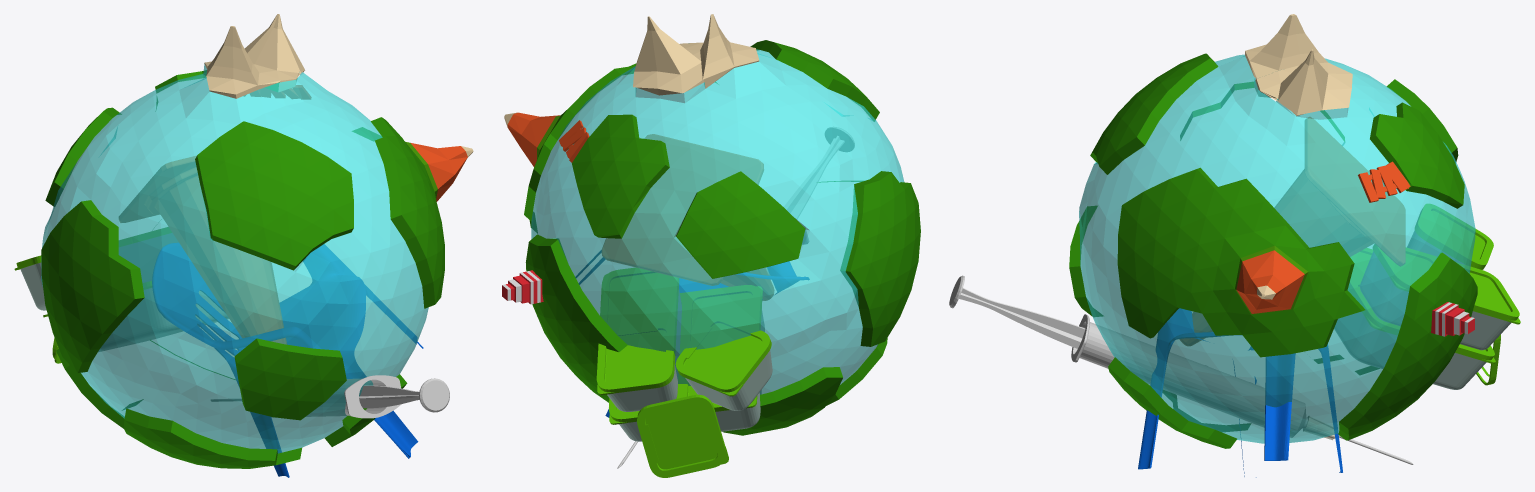
The model's file is world_05.glb.
The picture shows the model from 3 angles, left to right: view 1: azimuth 30°, elevation 25°; view 2: azimuth 150°, elevation 25°; view 3: azimuth 270°, elevation 25°; orthographic projection. The views are drawn at different scales.
Parts seen in each view (by area): view 1: World, 03_Chair, 04_Cone, 05_Boxturm, 01_Syringe; view 2: World, 05_Boxturm, 04_Cone, 01_Syringe, 03_Chair; view 3: World, 05_Boxturm, 04_Cone, 01_Syringe, 03_Chair.
Boxes of the visible parts, x1,y1,x2,y2 form: World: (41, 14, 473, 468); 03_Chair: (152, 243, 423, 477); 04_Cone: (119, 156, 286, 344); 05_Boxturm: (14, 227, 228, 363); 01_Syringe: (211, 375, 449, 418); World: (502, 14, 920, 435); 05_Boxturm: (596, 268, 772, 477); 04_Cone: (602, 134, 774, 300); 01_Syringe: (617, 127, 854, 468); 03_Chair: (537, 250, 809, 417); World: (1069, 14, 1477, 448); 05_Boxturm: (1334, 204, 1520, 389); 04_Cone: (1179, 117, 1405, 345); 01_Syringe: (949, 275, 1413, 464); 03_Chair: (1138, 308, 1342, 477).
Size of what is drawn, in the model's own units: 2.41 by 2.53 by 2.91.
